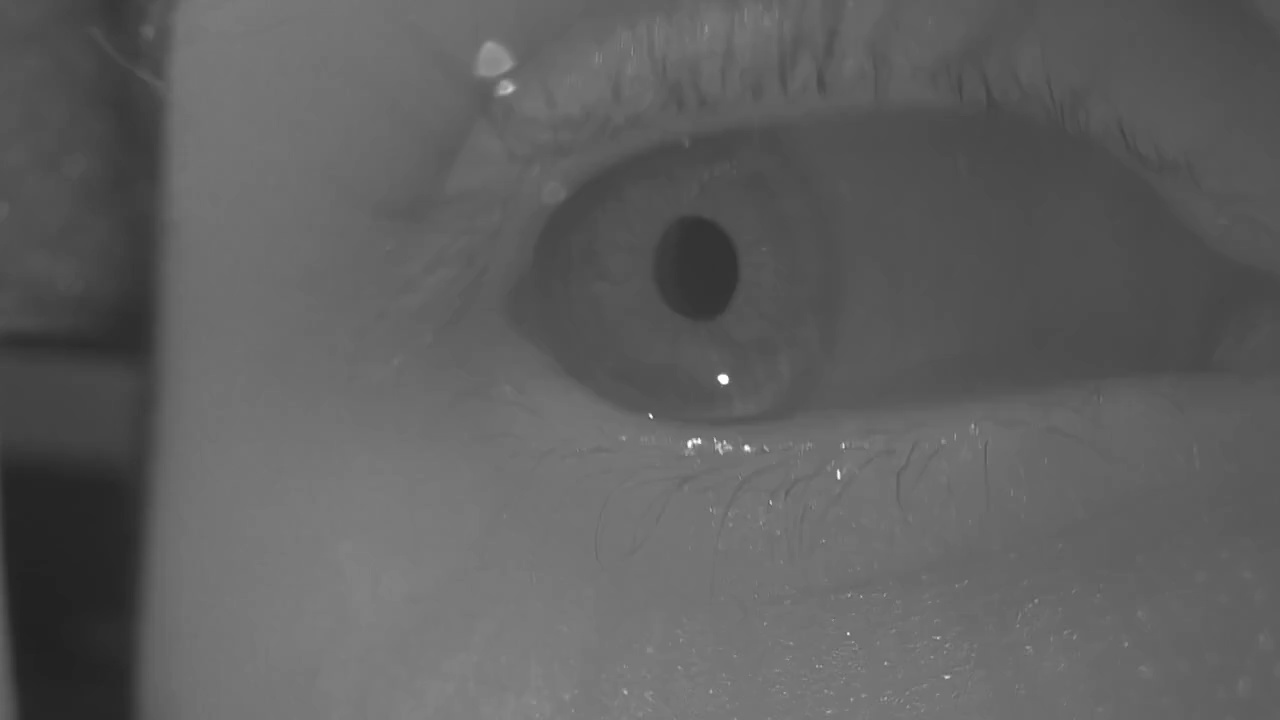pupil: (655, 218, 738, 321)
